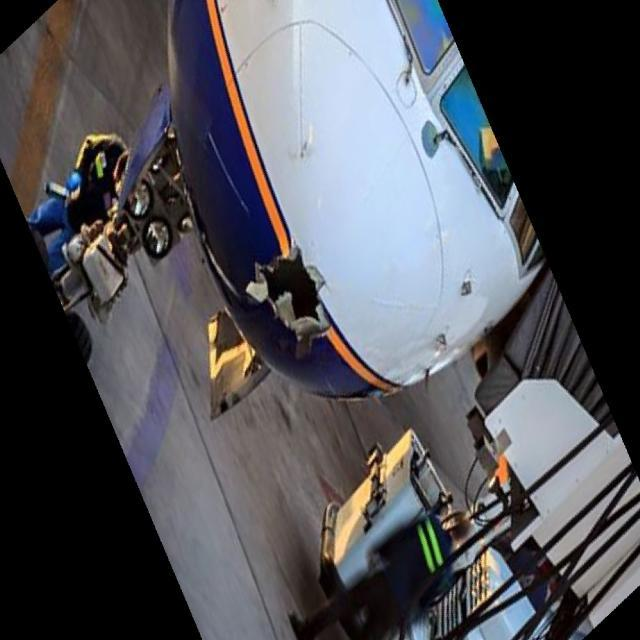crack: (247, 245, 337, 360)
